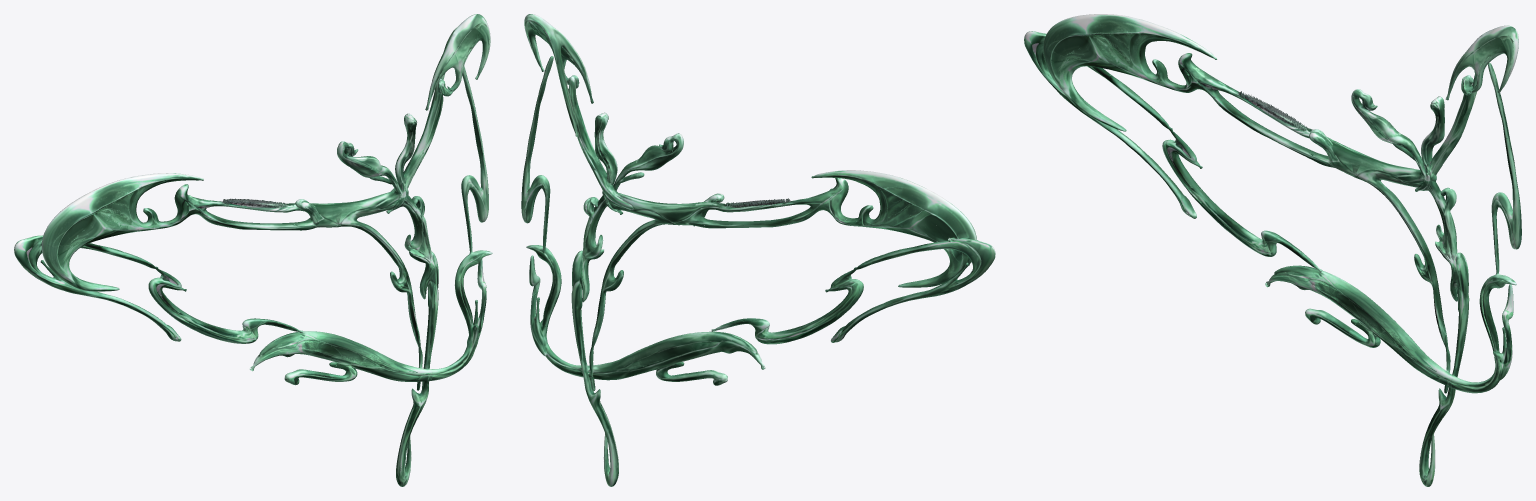
File: accept.glb
The picture shows the model from 3 angles, left to right: view 1: azimuth 30°, elevation 25°; view 2: azimuth 150°, elevation 25°; view 3: azimuth 330°, elevation 25°; orthographic projection. The views are drawn at different scales.
Parts seen in each view (by area): view 1: tripo_node_4517213f-8f68-4115-baeb-f7b9e51235e7; view 2: tripo_node_4517213f-8f68-4115-baeb-f7b9e51235e7; view 3: tripo_node_4517213f-8f68-4115-baeb-f7b9e51235e7.
Boxes of the visible parts, bbox=[...] form: tripo_node_4517213f-8f68-4115-baeb-f7b9e51235e7: bbox=[14, 14, 492, 486]; tripo_node_4517213f-8f68-4115-baeb-f7b9e51235e7: bbox=[521, 14, 995, 486]; tripo_node_4517213f-8f68-4115-baeb-f7b9e51235e7: bbox=[1024, 14, 1521, 486].
Bounding box in the file's own units: 0.9796 × 0.897 × 0.0513.
1 material, 1 textured.
